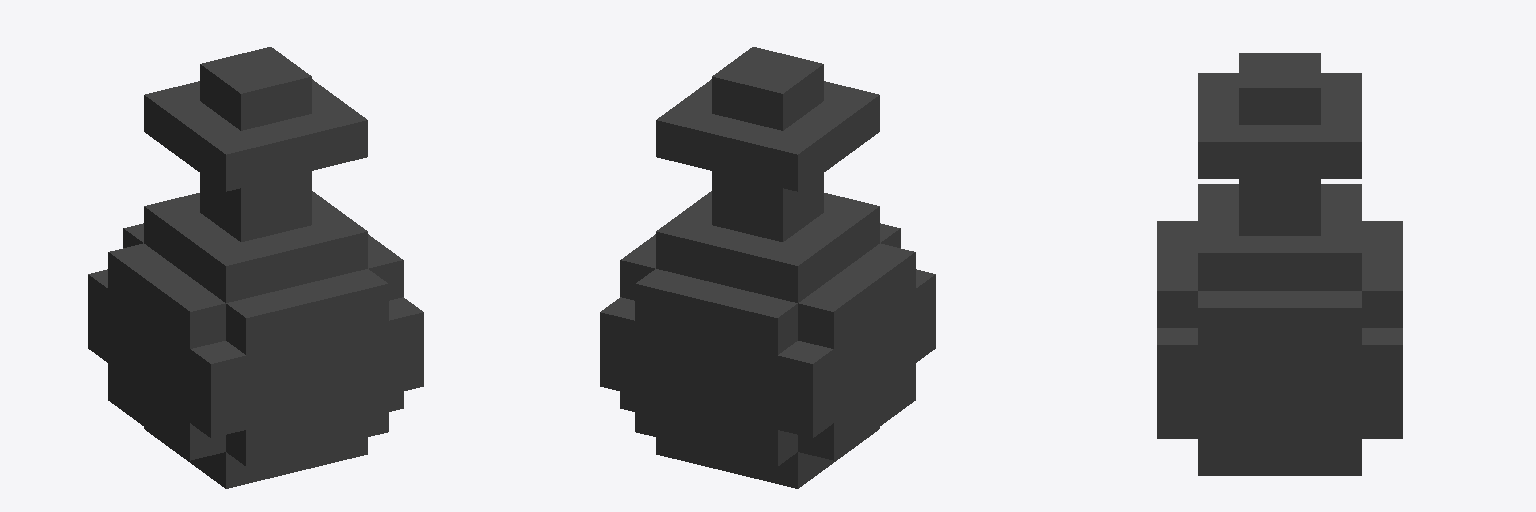
3 renders of one model, left to right at view 1: azimuth 30°, elevation 25°; view 2: azimuth 150°, elevation 25°; view 3: azimuth 270°, elevation 25°, orthographic.
Visible parts, largest first — view 1: object 1; view 2: object 1; view 3: object 1.
Boxes of the visible parts, <box> form: object 1: <box>88,47,423,488</box>; object 1: <box>600,47,935,488</box>; object 1: <box>1157,53,1402,475</box>.
Size of the model in its own units: 0.6 by 1 by 0.6.
1 materials, 1 textured.